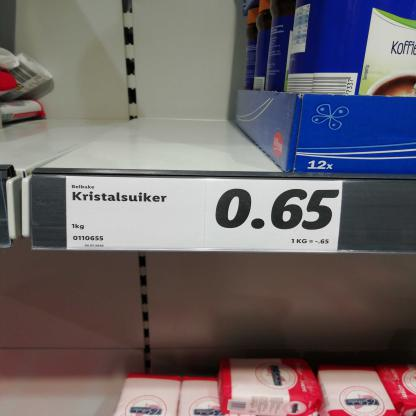prtg: (67, 176, 344, 253)
